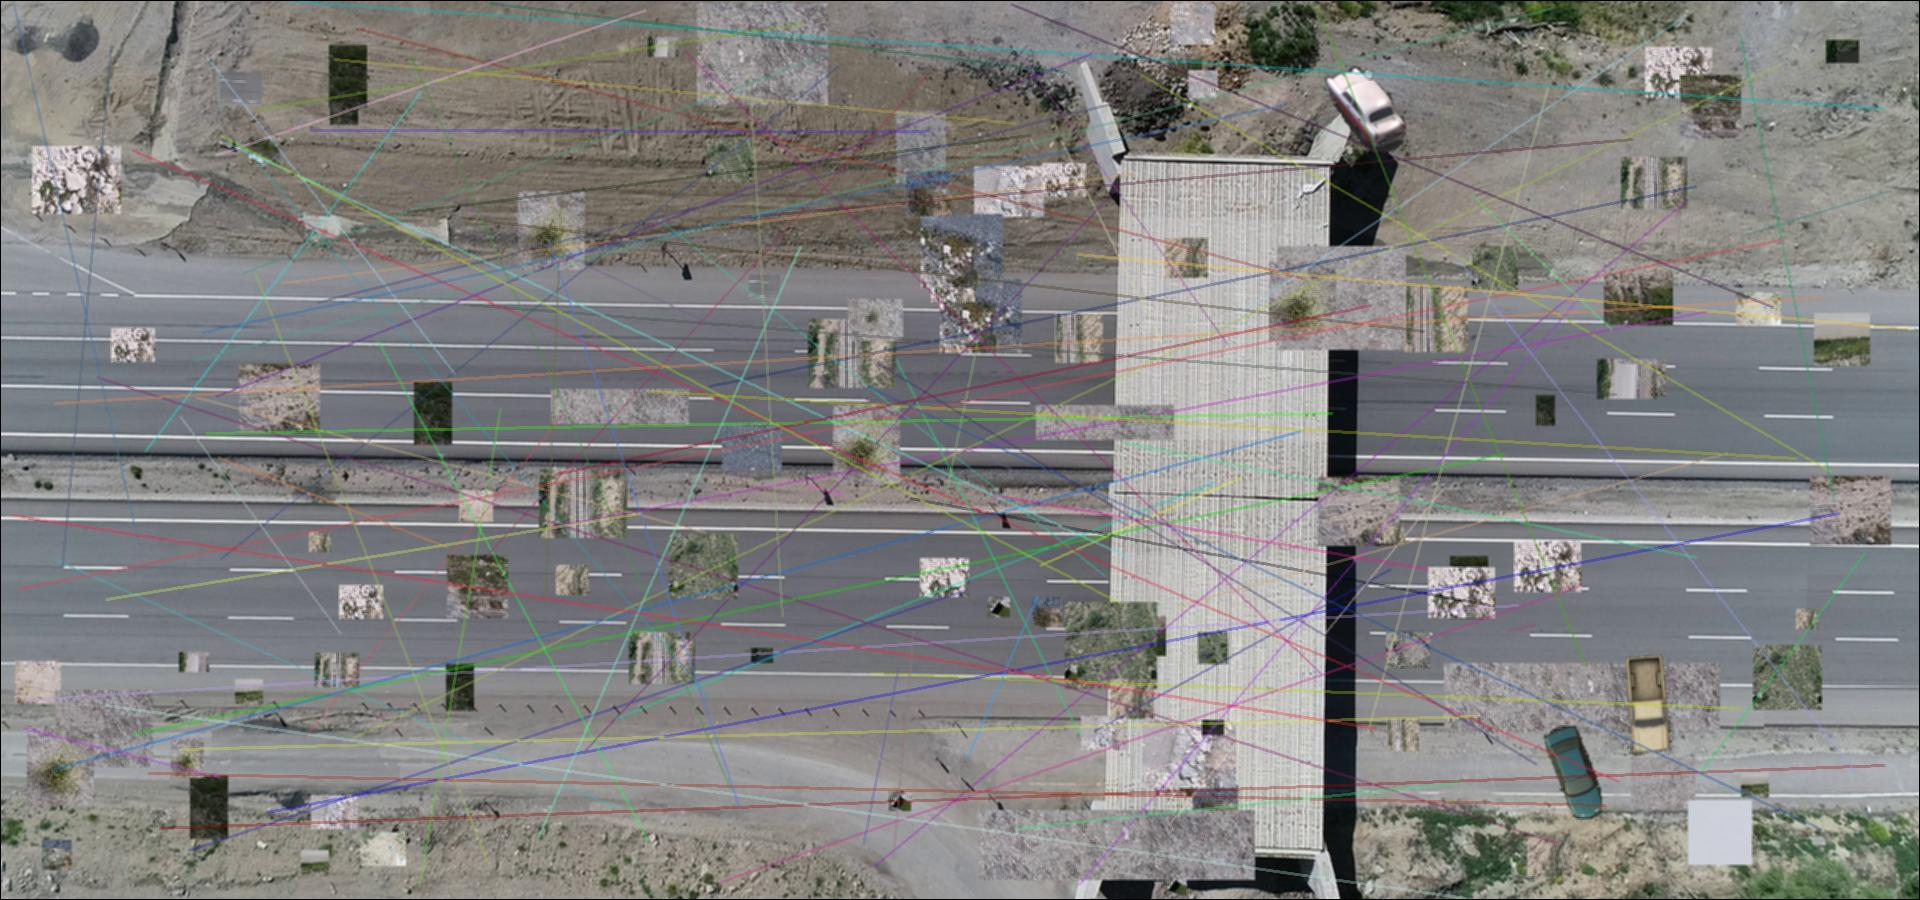arac: (1319, 62, 1408, 152), (1543, 724, 1607, 819), (1622, 654, 1674, 756)
